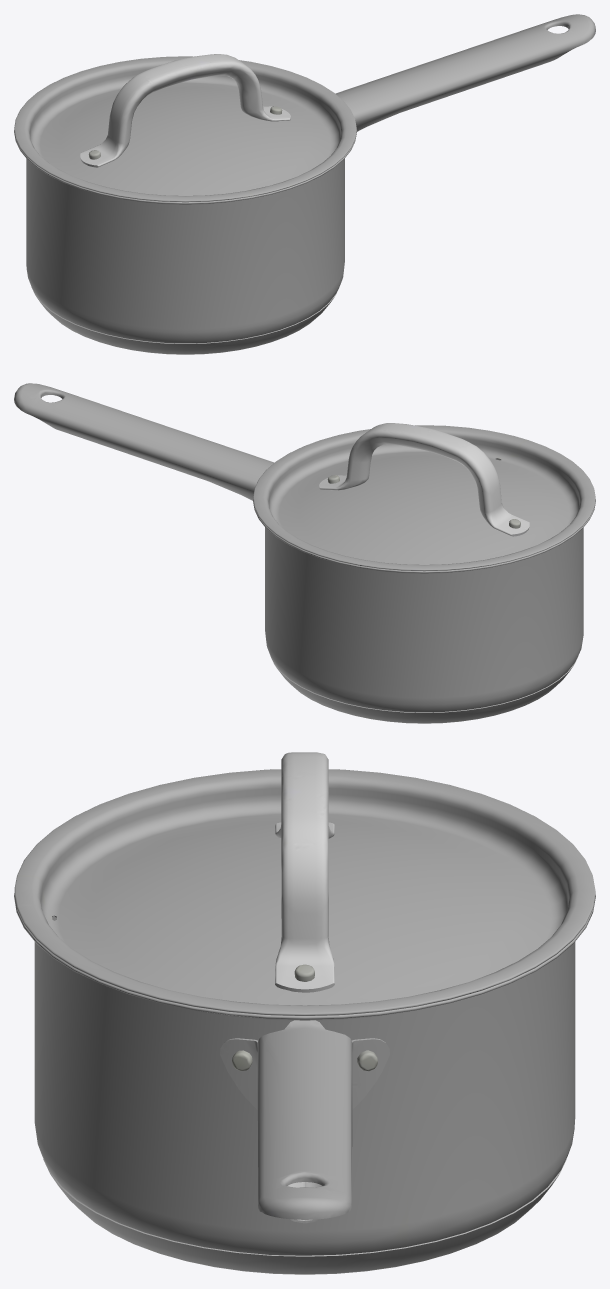
The model's file is ikea_365_rondel_z_pokrywka_40484232.glb.
3 renders of one model, top to bottom at view 1: azimuth 30°, elevation 25°; view 2: azimuth 150°, elevation 25°; view 3: azimuth 270°, elevation 25°, orthographic. The views are drawn at different scales.
Parts seen in each view (by area): view 1: ikea_365_rondel_z_pokrywka_40484232; view 2: ikea_365_rondel_z_pokrywka_40484232; view 3: ikea_365_rondel_z_pokrywka_40484232.
Part boxes in pixels (x1,y1,x2,y2): ikea_365_rondel_z_pokrywka_40484232: (14,14,595,354); ikea_365_rondel_z_pokrywka_40484232: (14,383,595,723); ikea_365_rondel_z_pokrywka_40484232: (14,752,595,1274).
Bounding box in the file's own units: 0.3445 × 0.1386 × 0.1843.
2 materials, 2 textured.
